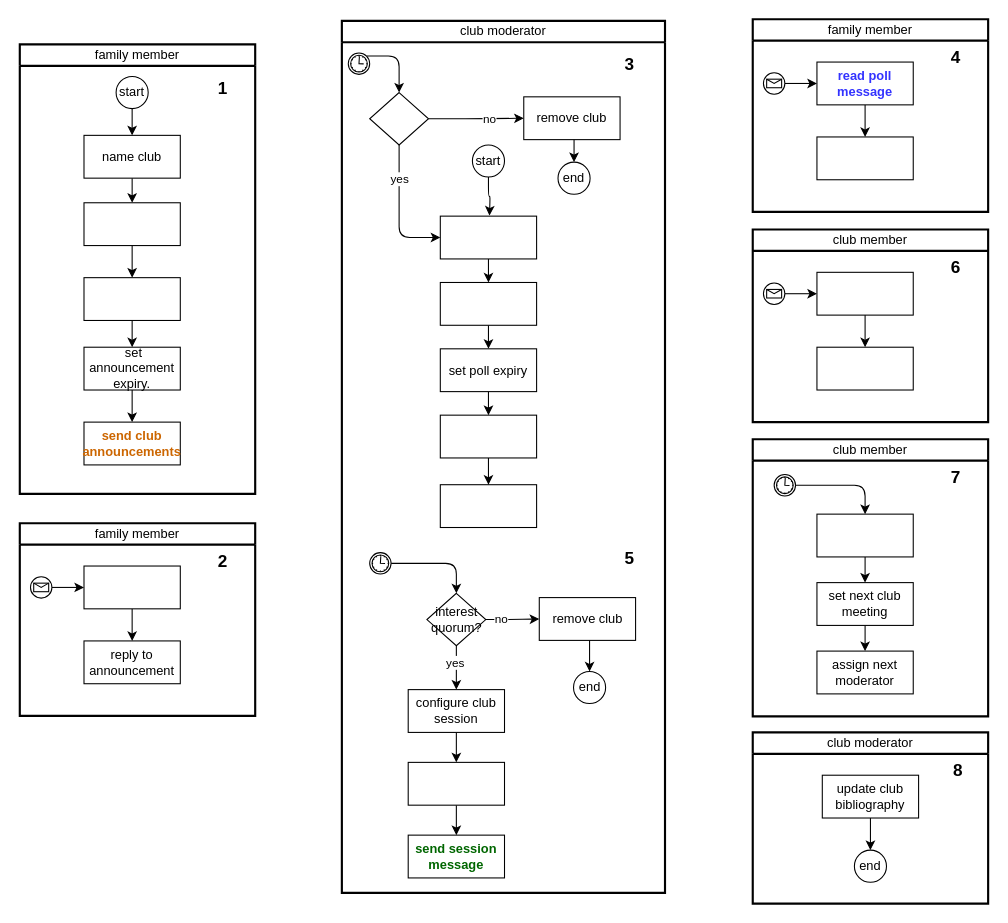
This 1008x923 diagram has some shape labels left out. Each missing label, with the box of its shape:
announcement quorum?: (369, 91, 429, 145)
attend club meeting: (816, 513, 913, 557)
configure poll: (439, 215, 537, 259)
create club thread: (83, 277, 180, 320)
create poll message: (439, 414, 537, 458)
create session message: (407, 761, 505, 805)
define charter: (83, 202, 180, 246)
read announcement: (83, 565, 180, 609)
read session message: (816, 271, 913, 315)
reply to club message: (816, 346, 913, 390)
reply to poll message: (816, 136, 913, 180)
send poll message: (439, 484, 537, 528)
update bibliography: (439, 281, 537, 325)
